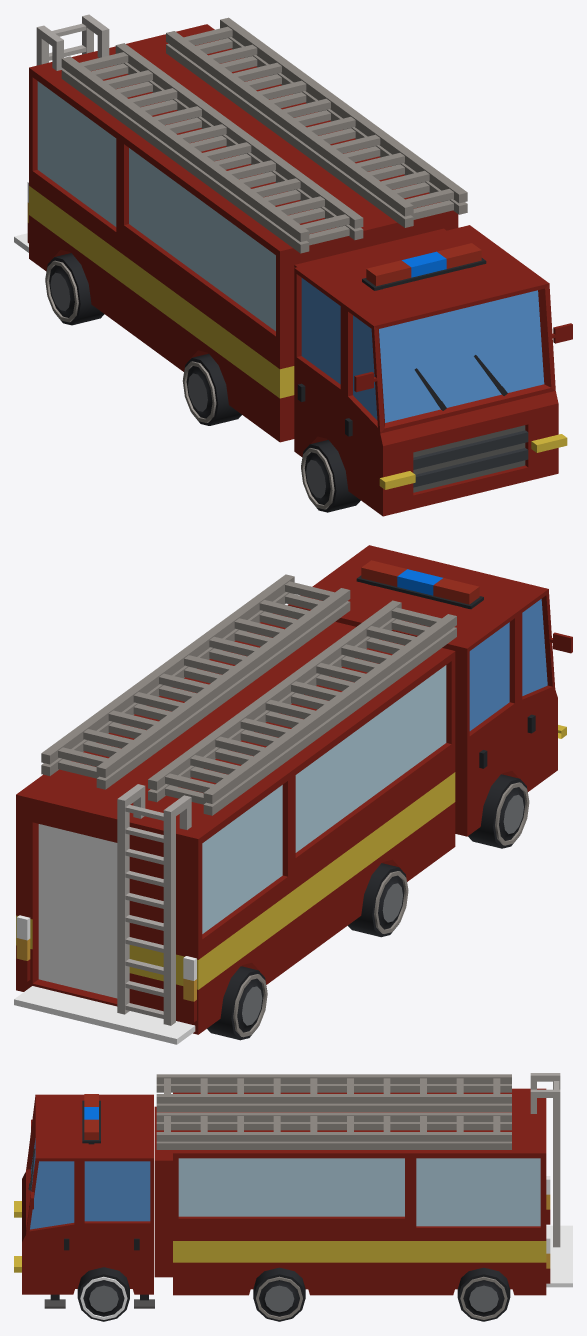
Rendered from FireResque_1.fbx.
3 renders of one model, top to bottom at view 1: azimuth 30°, elevation 25°; view 2: azimuth 150°, elevation 25°; view 3: azimuth 270°, elevation 25°, orthographic. The views are drawn at different scales.
Visible parts, largest first — view 1: FireResque_1; view 2: FireResque_1; view 3: FireResque_1.
Part boxes in pixels (x1,y1,x2,y2): FireResque_1: [14, 14, 572, 516]; FireResque_1: [14, 545, 572, 1044]; FireResque_1: [14, 1073, 572, 1321].
Bounding box in the file's own units: 227 × 253 × 682.
